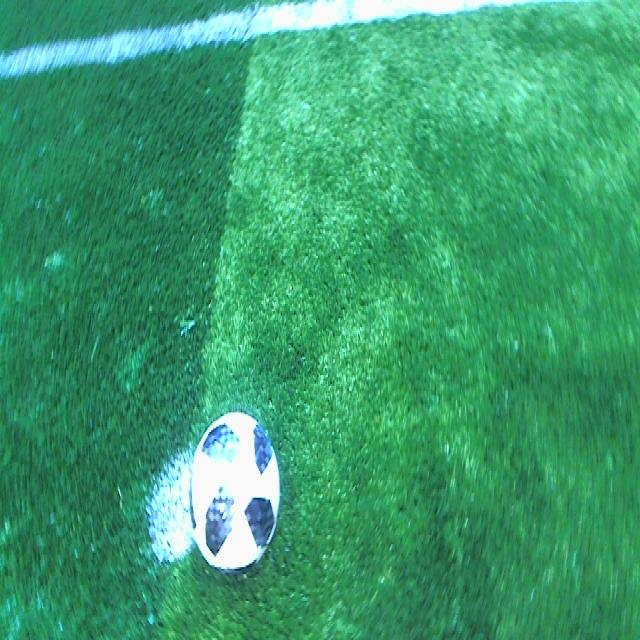ball: (186, 411, 281, 569)
